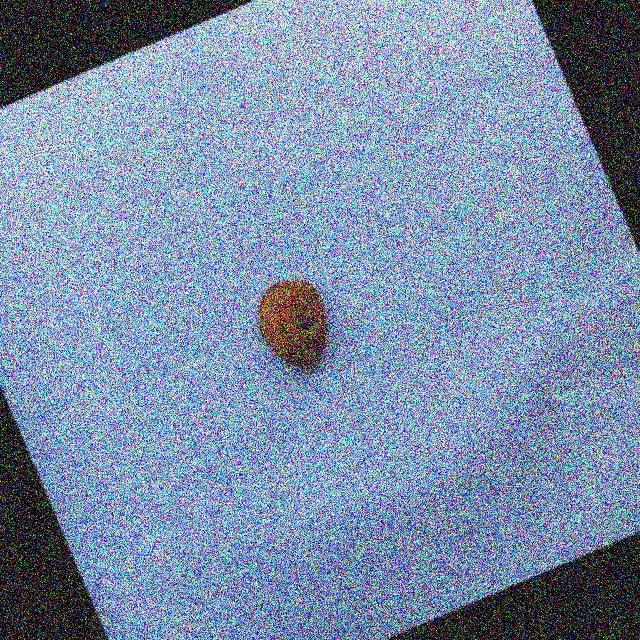grade3: (242, 264, 350, 384)
